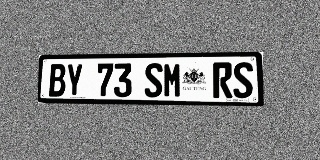3: (114, 63, 132, 97)
7: (96, 63, 114, 97)
B: (49, 64, 66, 97)
M: (163, 63, 182, 98)
R: (213, 62, 232, 98)
S: (233, 62, 253, 98), (144, 63, 163, 97)
Y: (66, 64, 83, 97)
